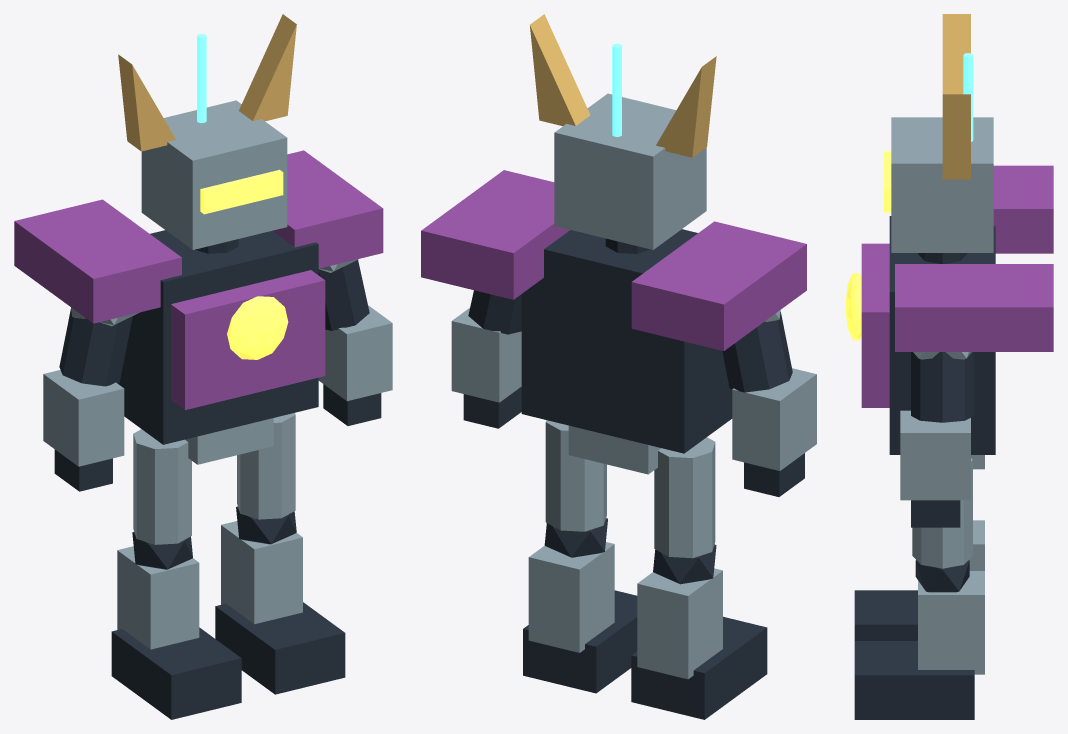
Rendered from Boss.fbx.
3 renders of one model, left to right at view 1: azimuth 30°, elevation 25°; view 2: azimuth 150°, elevation 25°; view 3: azimuth 270°, elevation 25°, orthographic. The views are drawn at different scales.
Visible parts, largest first — view 1: Boss_RenderMesh; view 2: Boss_RenderMesh; view 3: Boss_RenderMesh.
Boxes of the visible parts, bbox=[...] form: Boss_RenderMesh: bbox=[14, 14, 392, 719]; Boss_RenderMesh: bbox=[421, 14, 816, 719]; Boss_RenderMesh: bbox=[845, 14, 1053, 719].
Bounding box in the file's own units: 1.7 × 3.22 × 0.9752.
